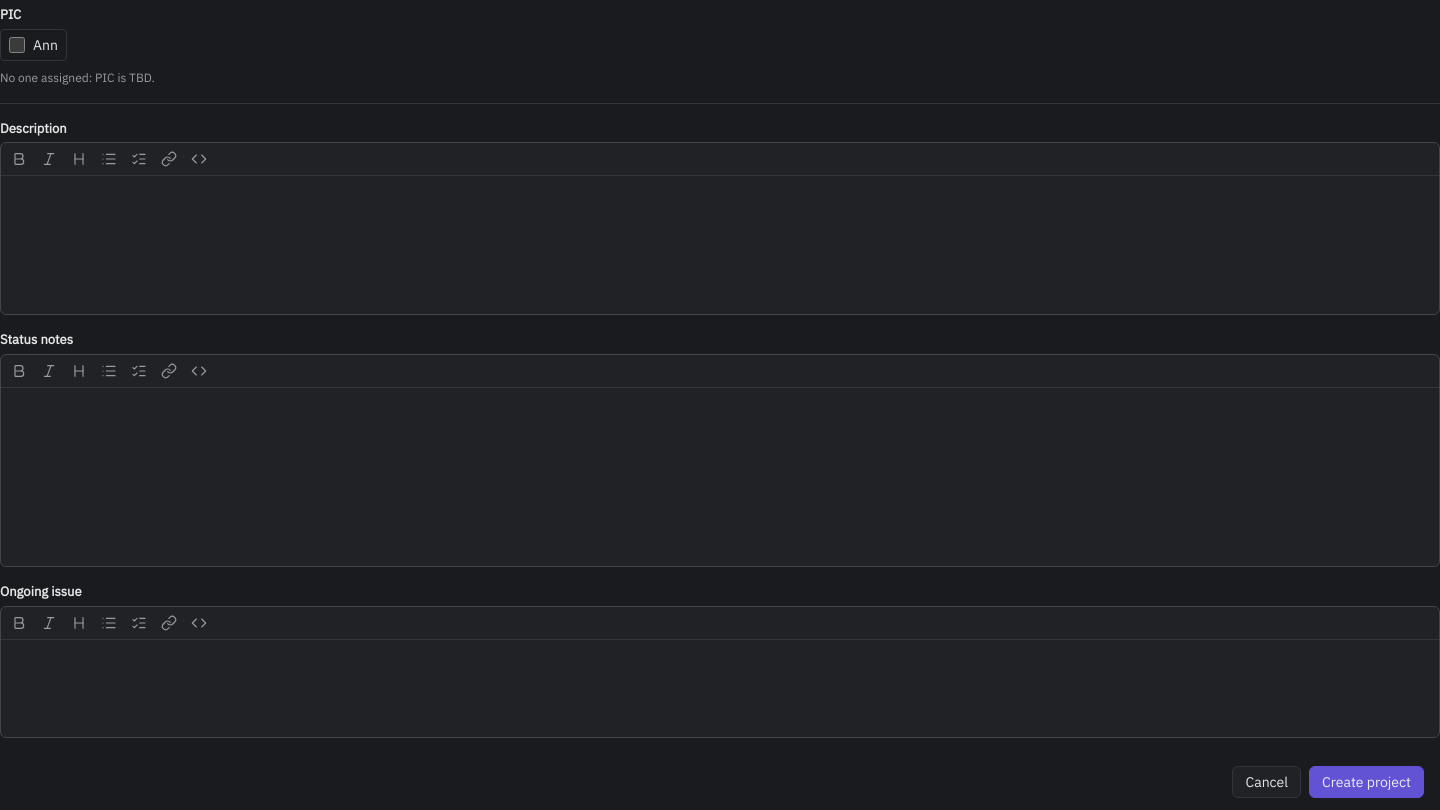
Test case: ProjectForm › shows validation messages next to the fields and does not submit
The width and height of the screenshot is (1440, 810).
(page scrolled)
Click the button "Create project".
click(1366, 782)  # box x1=1309 y1=766 x2=1424 y2=798
(page scrolled)
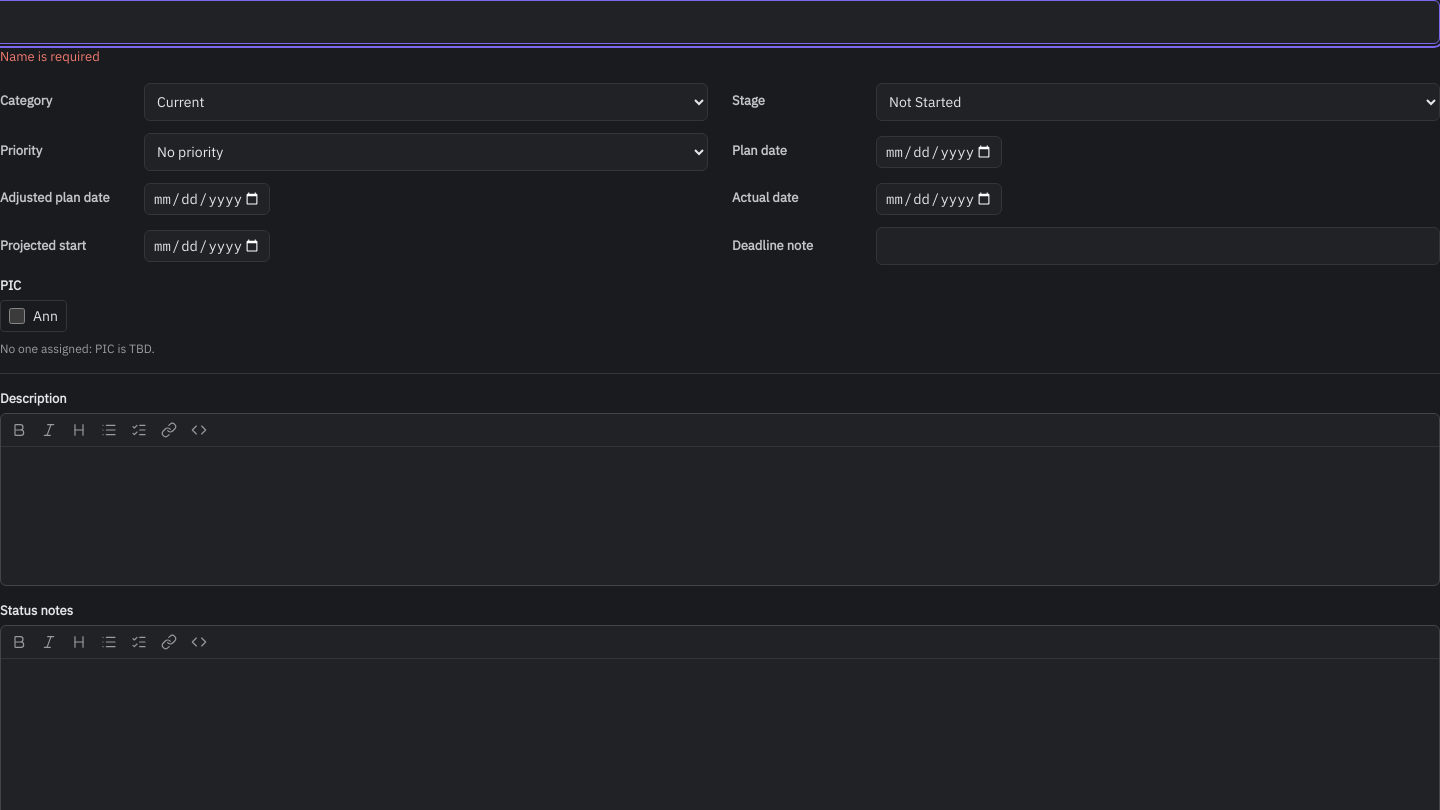
Expected: the text "Name is required" is shown, x1=0 y1=48 x2=100 y2=65
